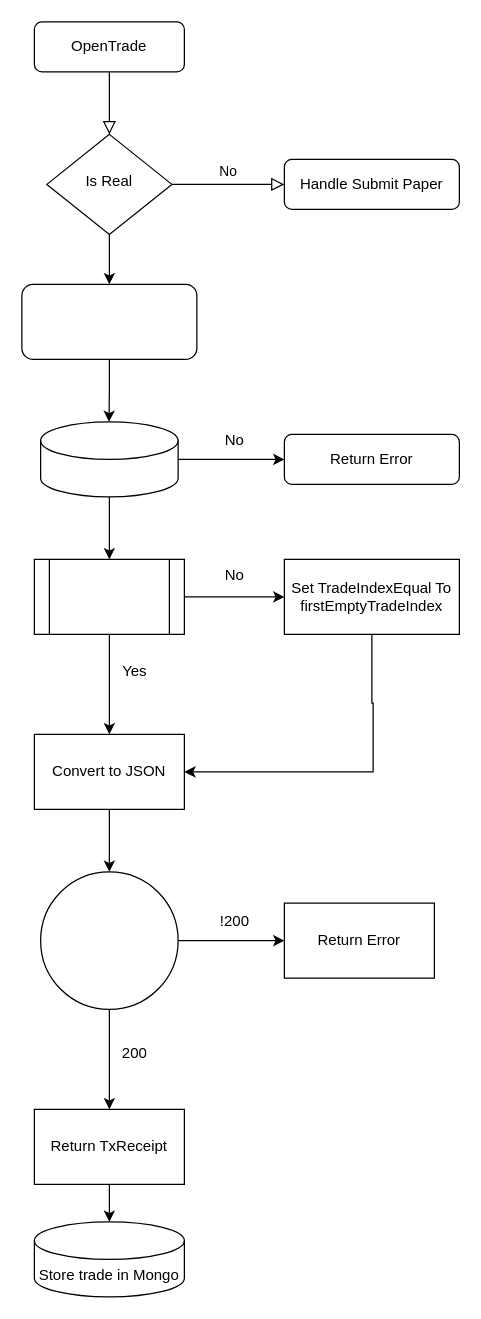
Some shapes in this 481 by 1319 pixel diagram are drawn without their labels. Each missing label, with the box of its shape:
/opentradegns: (39, 871, 178, 1009)
Check If TradeIndex == firstEmpyTradeIndex: (33, 558, 184, 634)
HandleSubmit: (21, 283, 197, 359)
Trade Cache Exist: (39, 421, 178, 497)
